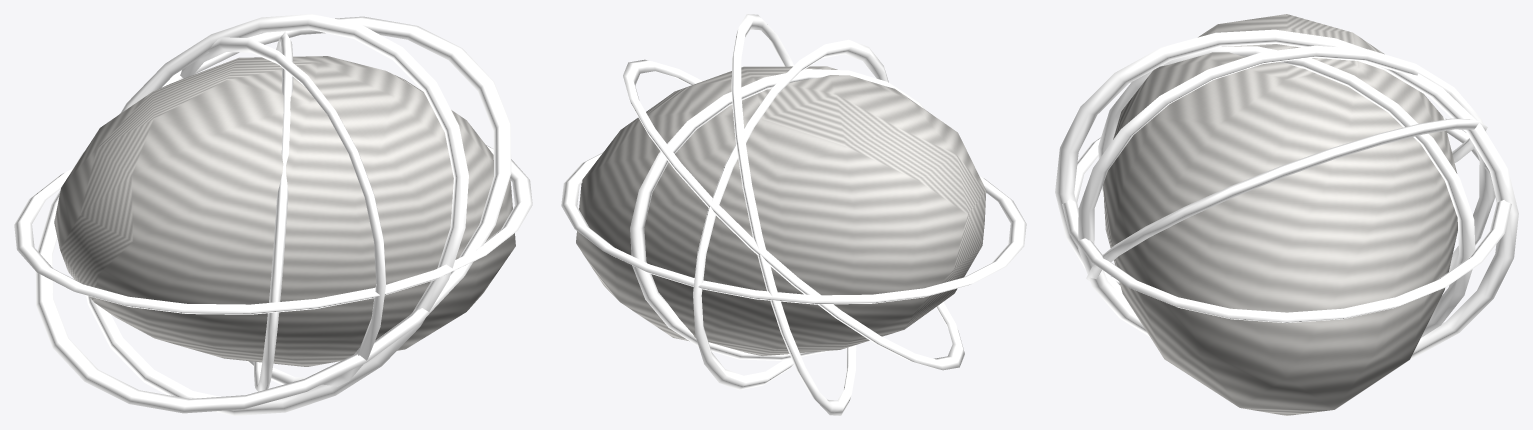
The model's file is spider_silk.glb.
3 views of the same model, side by side, from view 1: azimuth 30°, elevation 25°; view 2: azimuth 150°, elevation 25°; view 3: azimuth 270°, elevation 25° (orthographic). The views are drawn at different scales.
Visible parts, largest first — view 1: spider_silk; view 2: spider_silk; view 3: spider_silk.
Boxes of the visible parts, box(x1,y1,x2,y2) form: spider_silk: box(14, 14, 532, 415); spider_silk: box(561, 14, 1026, 415); spider_silk: box(1055, 14, 1518, 415).
Size of the model in its own units: 0.1812 by 0.1333 by 0.1492.
2 materials, 1 textured.
